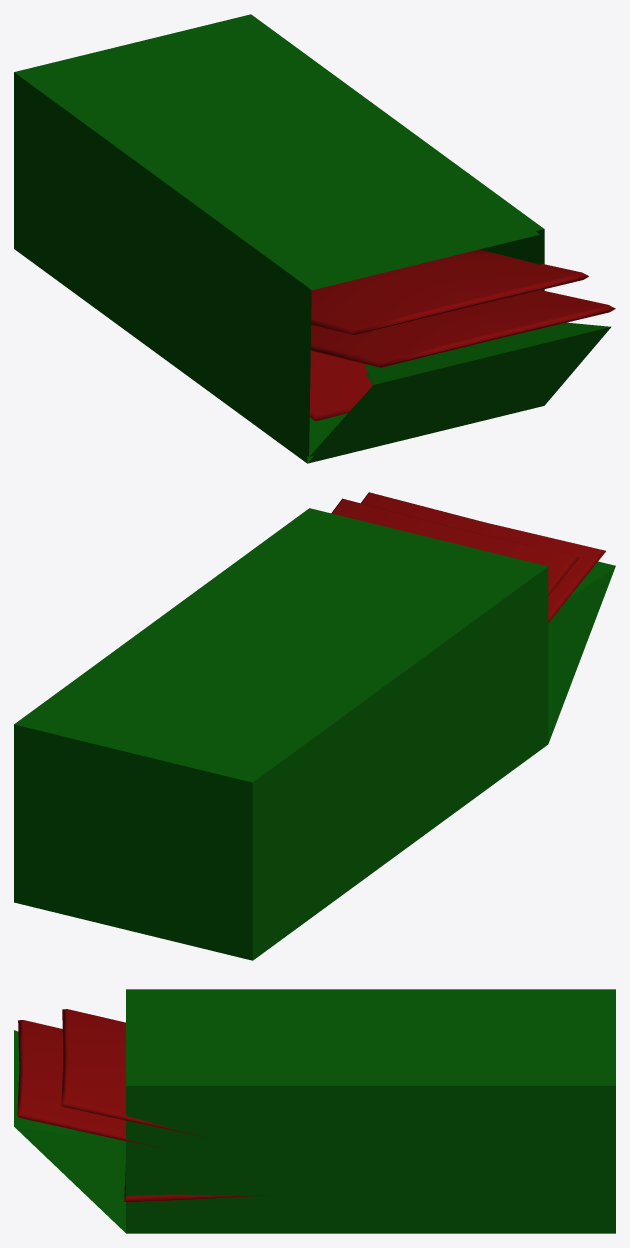
Rendered from sterileGauze.obj.
The picture shows the model from 3 angles, top to bottom: view 1: azimuth 30°, elevation 25°; view 2: azimuth 150°, elevation 25°; view 3: azimuth 270°, elevation 25°; orthographic projection. The views are drawn at different scales.
Visible parts, largest first — view 1: polySurface7; view 2: polySurface7; view 3: polySurface7.
Part boxes in pixels (x1,y1,x2,y2): polySurface7: (14, 14, 615, 463); polySurface7: (14, 492, 615, 960); polySurface7: (14, 989, 615, 1233).
Bounding box in the file's own units: 9.58 × 6.65 × 24.59.
